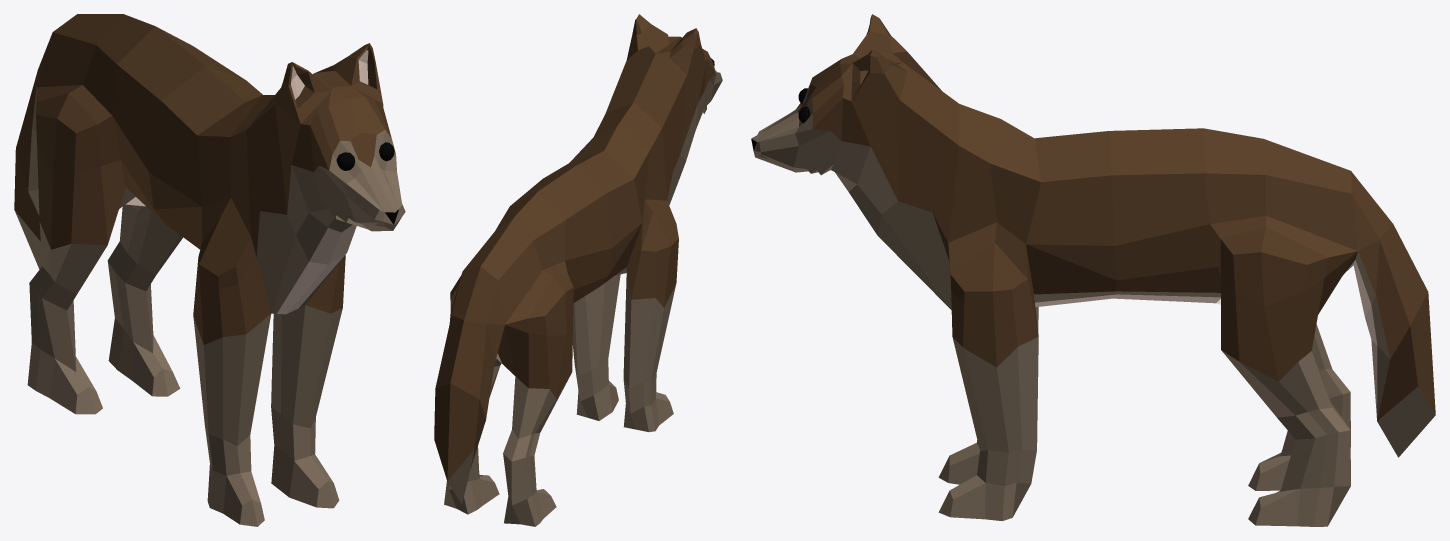
File: coyote_brown (1).fbx
3 views of the same model, side by side, from view 1: azimuth 30°, elevation 25°; view 2: azimuth 150°, elevation 25°; view 3: azimuth 270°, elevation 25° (orthographic). The views are drawn at different scales.
Visible parts, largest first — view 1: Coyote; view 2: Coyote; view 3: Coyote.
Boxes of the visible parts, x1,y1,x2,y2 form: Coyote: (14, 14, 405, 526); Coyote: (434, 14, 722, 526); Coyote: (751, 14, 1435, 526).
Size of the model in its own units: 57.46 by 195 by 257.
